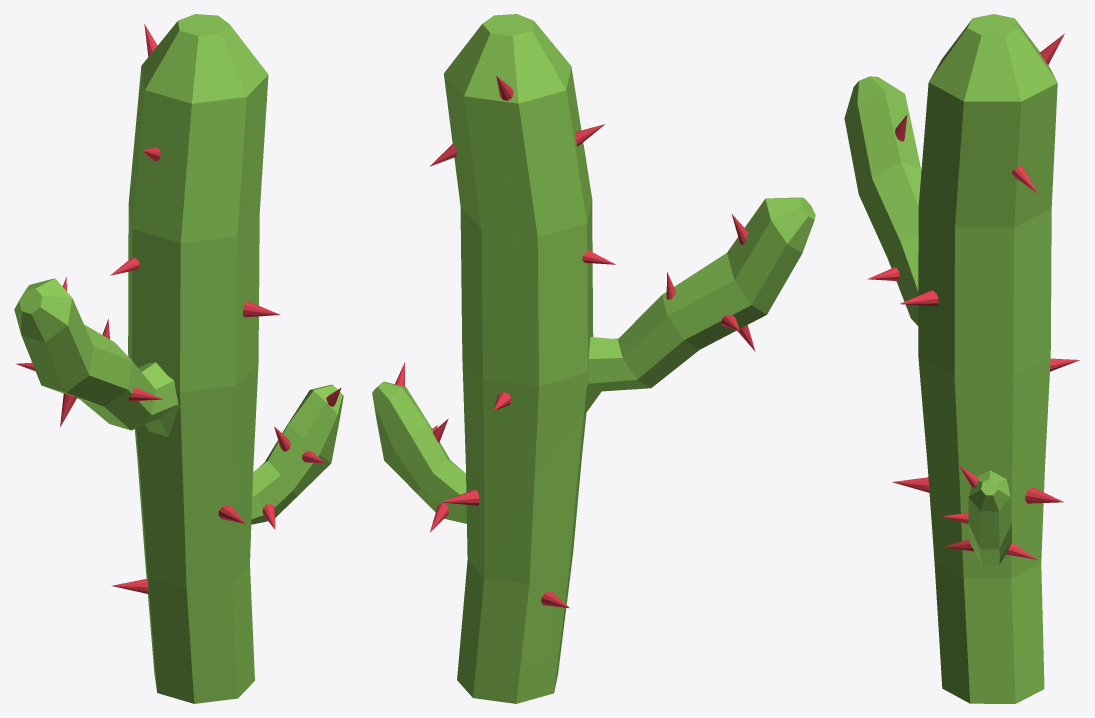
Rendered from Cactus1.fbx.
3 renders of one model, left to right at view 1: azimuth 30°, elevation 25°; view 2: azimuth 150°, elevation 25°; view 3: azimuth 270°, elevation 25°, orthographic.
Visible parts, largest first — view 1: Desert.330; view 2: Desert.330; view 3: Desert.330.
Boxes of the visible parts, x1,y1,x2,y2 form: Desert.330: [14, 14, 343, 703]; Desert.330: [372, 14, 815, 703]; Desert.330: [844, 14, 1079, 703].
Bounding box in the file's own units: 2.58 × 4.26 × 1.38.
